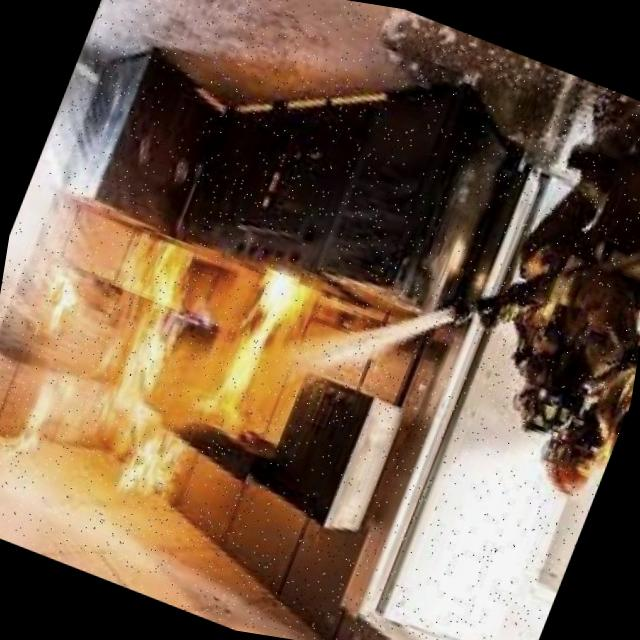fire: (39, 208, 316, 542)
